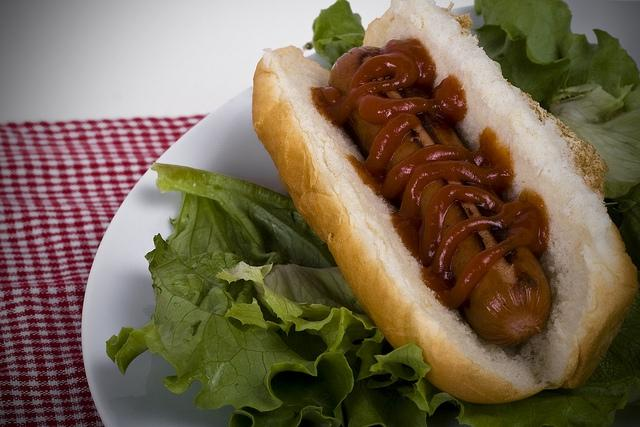lettuce: (102, 162, 430, 427), (474, 0, 639, 198), (302, 0, 366, 65)
